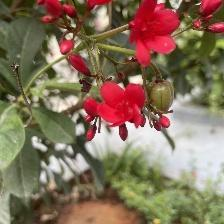jatropha: (94, 77, 146, 128)
